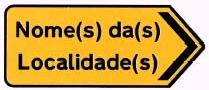sinais: (1, 1, 209, 90)
